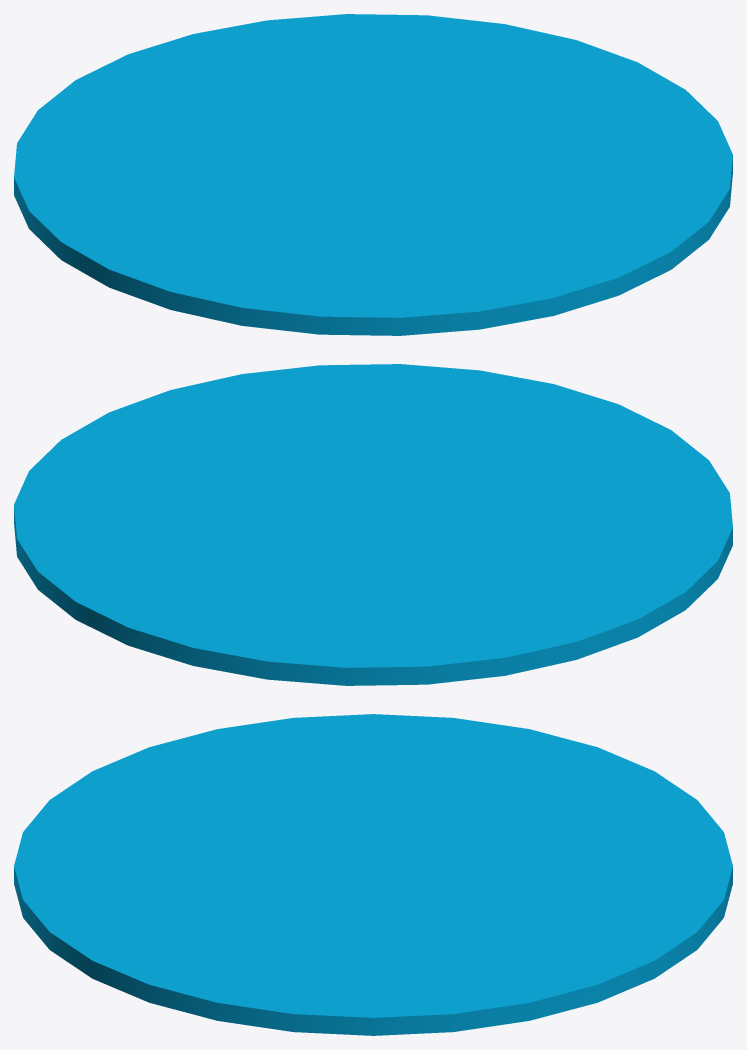
File: Wood_Circle.fbx
The picture shows the model from 3 angles, top to bottom: view 1: azimuth 30°, elevation 25°; view 2: azimuth 150°, elevation 25°; view 3: azimuth 270°, elevation 25°; orthographic projection.
Visible parts, largest first — view 1: Wood_Circle; view 2: Wood_Circle; view 3: Wood_Circle.
Boxes of the visible parts, <box> form: Wood_Circle: <box>14,14,732,335</box>; Wood_Circle: <box>14,364,732,685</box>; Wood_Circle: <box>14,714,732,1035</box>.
Size of the model in its own units: 418 by 11.57 by 418.
